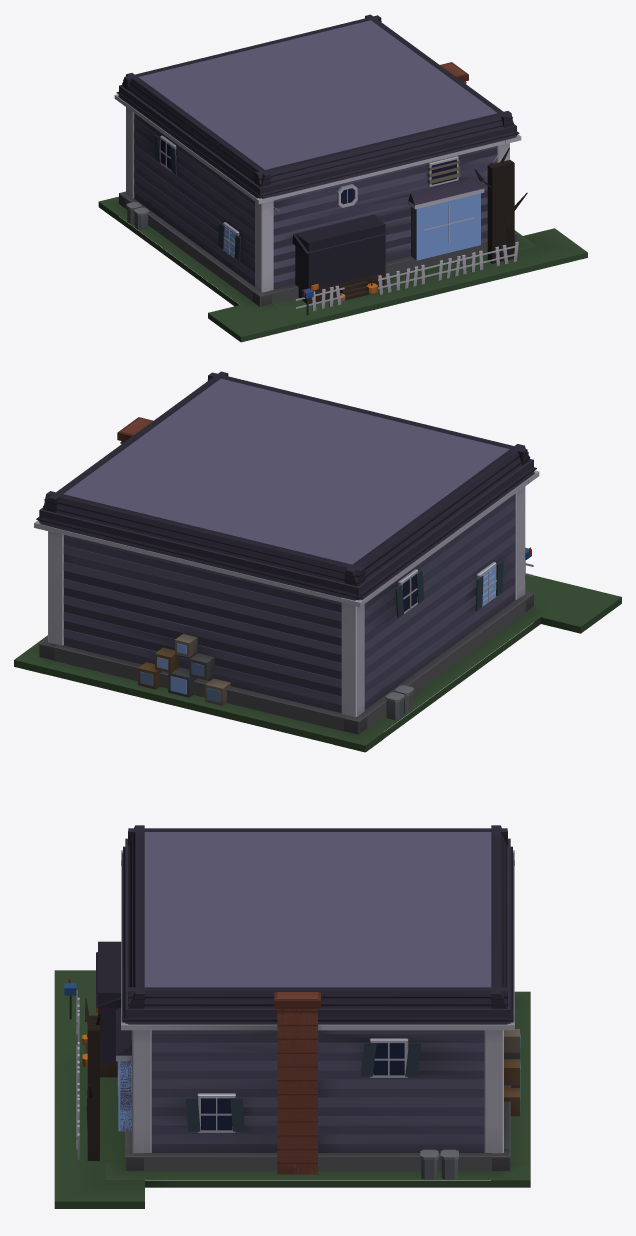
Rendered from CursedTVFloor.fbx.
3 views of the same model, one above another, from view 1: azimuth 30°, elevation 25°; view 2: azimuth 150°, elevation 25°; view 3: azimuth 270°, elevation 25° (orthographic). The views are drawn at different scales.
Parts seen in each view (by area): view 1: CT_S_All, CT_F_Rings, CT_F_Smooth, CT_F_Quiet, CT_F_Props; view 2: CT_F_Rings, CT_S_All, CT_F_Smooth, CT_F_Quiet, CT_F_Props, CT_F_Glass; view 3: CT_S_All, CT_F_Rings, CT_F_Smooth, CT_F_Quiet, CT_F_Props.
Boxes of the visible parts, x1,y1,x2,y2 form: CT_S_All: (119,20,516,306); CT_F_Rings: (118,16,517,306); CT_F_Smooth: (98,14,587,342); CT_F_Quiet: (99,196,587,336); CT_F_Props: (127,62,513,301); CT_F_Rings: (38,373,534,733); CT_S_All: (39,378,533,734); CT_F_Smooth: (14,371,621,752); CT_F_Quiet: (14,575,621,745); CT_F_Props: (117,417,531,720); CT_F_Glass: (140,565,495,702); CT_S_All: (87,832,510,1174); CT_F_Rings: (96,826,513,1174); CT_F_Smooth: (54,825,530,1208); CT_F_Quiet: (54,970,530,1201); CT_F_Props: (64,983,519,1179).
Size of the model in its own units: 60 by 20 by 60.
